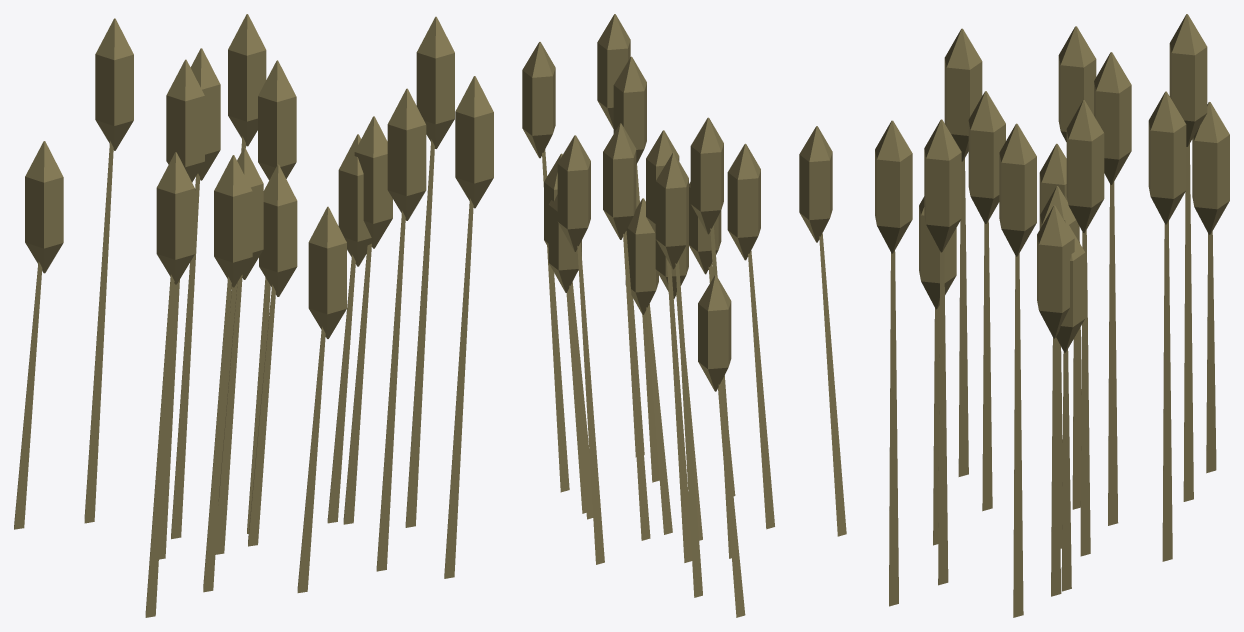
The model's file is NAT_Ground_06_Crop.glb.
3 views of the same model, side by side, from view 1: azimuth 30°, elevation 25°; view 2: azimuth 150°, elevation 25°; view 3: azimuth 270°, elevation 25° (orthographic). The views are drawn at different scales.
Visible parts, largest first — view 1: NAT_Ground_06_Crop; view 2: NAT_Ground_06_Crop; view 3: NAT_Ground_06_Crop.
Boxes of the visible parts, x1,y1,x2,y2 form: NAT_Ground_06_Crop: (14, 14, 493, 617); NAT_Ground_06_Crop: (522, 14, 846, 617); NAT_Ground_06_Crop: (875, 14, 1229, 617).
Size of the model in its own units: 0.7642 by 1.07 by 0.6806.
